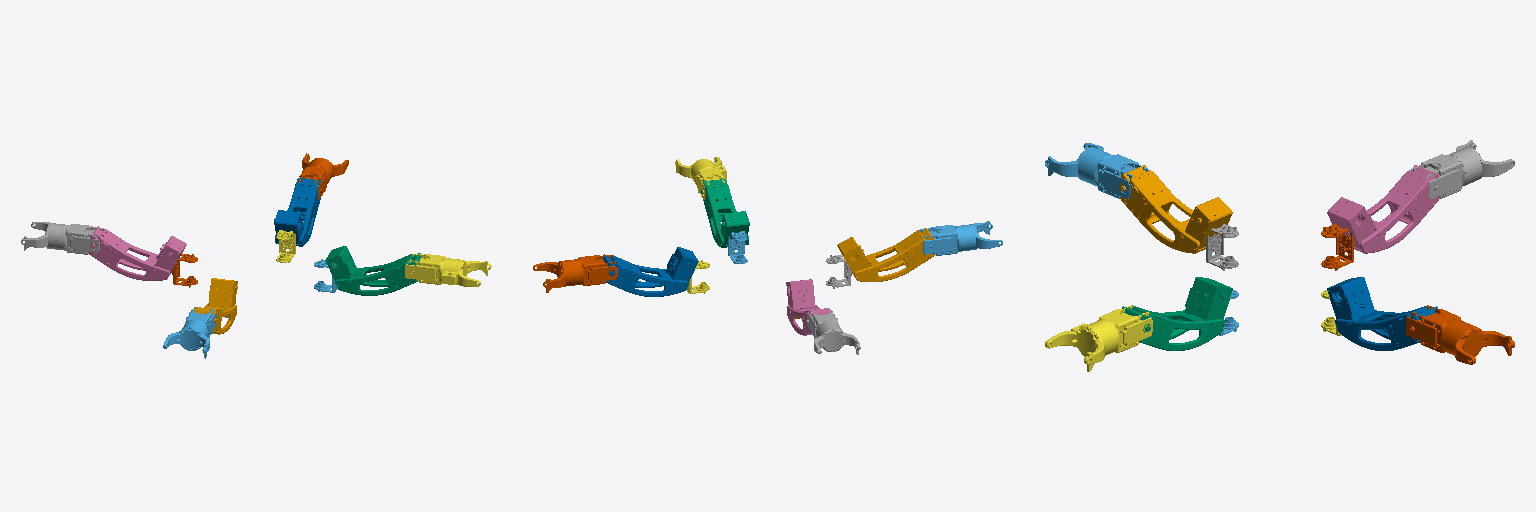
--- What the picture shows (computed from the rendered views, not written in the file) ---
3 views of the same robot in one strip: view 1: azimuth 30°, elevation 25°; view 2: azimuth 150°, elevation 25°; view 3: azimuth 270°, elevation 25° (orthographic).
Model magneto with 25 links and 24 joints (24 revolute), rooted at base_link, posed every joint at zero.
Visible links, largest first — view 1: BL_femur_link, AR_femur_link, AR_tibia_link, AL_femur_link, BL_tibia_link, BR_tibia_link, BR_femur_link, AL_tibia_link; view 2: AL_femur_link, BR_femur_link, AR_femur_link, AL_tibia_link, BR_tibia_link, BL_tibia_link, BL_femur_link, AR_tibia_link; view 3: BR_femur_link, BL_femur_link, AR_femur_link, AL_femur_link, AL_tibia_link, AR_tibia_link, BL_tibia_link, BR_tibia_link, BL_coxa_link, BR_coxa_link.
Boxes of the visible links, <box> form: BL_femur_link: <box>89,226,186,280</box>; AR_femur_link: <box>325,246,420,295</box>; AR_tibia_link: <box>405,254,491,286</box>; AL_femur_link: <box>274,178,320,246</box>; BL_tibia_link: <box>21,222,103,254</box>; BR_tibia_link: <box>163,307,216,358</box>; BR_femur_link: <box>191,278,237,334</box>; AL_tibia_link: <box>296,153,348,199</box>; AL_femur_link: <box>603,247,698,296</box>; BR_femur_link: <box>837,228,934,281</box>; AR_femur_link: <box>701,179,749,247</box>; AL_tibia_link: <box>533,255,617,292</box>; BR_tibia_link: <box>919,221,1002,255</box>; BL_tibia_link: <box>806,308,860,354</box>; BL_femur_link: <box>786,279,832,335</box>; AR_tibia_link: <box>675,157,728,199</box>; BR_femur_link: <box>1120,165,1232,253</box>; BL_femur_link: <box>1327,165,1439,253</box>; AR_femur_link: <box>1122,277,1232,350</box>; AL_femur_link: <box>1327,277,1437,350</box>; AL_tibia_link: <box>1406,305,1514,364</box>; AR_tibia_link: <box>1045,305,1152,371</box>; BL_tibia_link: <box>1410,140,1514,199</box>; BR_tibia_link: <box>1045,143,1148,199</box>; BL_coxa_link: <box>1321,224,1354,270</box>; BR_coxa_link: <box>1205,224,1238,270</box>.
Bounding box of the posed robot: 0.7142 × 0.6554 × 0.0927 m (x, y, z).
12 mesh visuals loaded from 5 distinct referenced files (4 binary STL); not drawn: 1 (reference not matched to a file when rendering).

The robot description file, URDF, robot "magneto":
<?xml version="1.0" encoding="utf-8"?>
<!-- =================================================================================== -->
<!-- |    This document was autogenerated by xacro from magneto_2_bones.xacro          | -->
<!-- |    EDITING THIS FILE BY HAND IS NOT RECOMMENDED                                 | -->
<!-- =================================================================================== -->
<robot name="magneto">
  <link name="base_link">
    <inertial>
      <origin rpy="0 0 0" xyz="-0.2696E-03 0 33.3181E-03"/>
      <mass value="1.44521"/>
      <inertia ixx="0.0083421056972" ixy="-4.932e-08" ixz="-2.47500871e-05" iyy="0.0136724752281" iyz="2.37e-11" izz="0.0180888568473"/>
    </inertial>
    <visual>
      <geometry>
        <mesh filename="package://magneto_2_description/meshes/base_link.STL"/>
      </geometry>
      <origin rpy="0 0 0" xyz="0 0 0"/>
      <material name="black"/>
    </visual>
    <collision>
      <geometry>
        <mesh filename="package://magneto_2_description/meshes/base_link_collision.STL"/>
      </geometry>
      <origin rpy="0 0 0" xyz="0 0 0"/>
    </collision>
  </link>
  <link name="AR_coxa_link">
    <inertial>
      <origin rpy="0.0            0.0            0.0" xyz="0.0            0.0            0.0"/>
      <mass value="0.05629"/>
      <inertia ixx="6.383417e-05" ixy="0.0" ixz="0.0" iyy="2.843519e-05" iyz="0.0" izz="4.305331e-05"/>
    </inertial>
    <visual>
      <geometry>
        <mesh filename="package://magneto_2_description/meshes/coxa_link.STL"/>
      </geometry>
      <origin rpy="-1.5708          1.5708          0.0" xyz="0.0          0.0          0.0"/>
      <material name="black"/>
    </visual>
    <collision>
      <geometry>
        <mesh filename="package://magneto_2_description/meshes/coxa_link_collision.STL"/>
      </geometry>
      <origin rpy="-1.5708            1.5708            0.0" xyz="0.0            0.0            0.0"/>
    </collision>
  </link>
  <joint name="AR_coxa_joint" type="revolute">
    <limit effort="100.0" lower="-2.355" upper="2.355" velocity="5"/>
    <child link="AR_coxa_link"/>
    <parent link="base_link"/>
    <axis xyz="0 1 0"/>
    <origin rpy="1.5708 0 -0.785" xyz="0.124985156372 -0.0950142657006 0.0527"/>
  </joint>
  <link name="AR_femur_link">
    <inertial>
      <origin rpy="0.0            0.0            0.0" xyz="0.0331            0.0            0.00057"/>
      <mass value="0.25695"/>
      <inertia ixx="0.00023448195" ixy="8.961282e-05" ixz="2.299328e-05" iyy="0.00105768013" iyz="-8.2212e-07" izz="0.00113717868"/>
    </inertial>
    <visual>
      <geometry>
        <mesh filename="package://magneto_2_description/meshes/femur_link.STL"/>
      </geometry>
      <origin rpy="3.14159          0.0          0.0" xyz="0.0          0.0          0.0"/>
      <material name="black"/>
    </visual>
    <collision>
      <geometry>
        <mesh filename="package://magneto_2_description/meshes/femur_link_collision.STL"/>
      </geometry>
      <origin rpy="-1.5708            0.0            0.0" xyz="0.0            0.0            0.0"/>
    </collision>
  </link>
  <joint name="AR_femur_joint" type="revolute">
    <limit effort="100.0" lower="-1.571" upper="2.355" velocity="5"/>
    <child link="AR_femur_link"/>
    <parent link="AR_coxa_link"/>
    <axis xyz="0 0 1"/>
    <origin rpy="0 0 0" xyz="0 0.0393 0"/>
  </joint>
  <link name="AR_tibia_link">
    <inertial>
      <origin rpy="0.0            0.0            0.0" xyz="0.04813            0.0            0.00063"/>
      <mass value="0.57311"/>
      <inertia ixx="0.00012691396" ixy="-2.13598e-06" ixz="1.580716e-05" iyy="0.00135132424" iyz="4.859e-08" izz="0.00131598196"/>
    </inertial>
    <visual>
      <geometry>
        <mesh filename="package://magneto_2_description/meshes/tibia_link_ft.STL"/>
      </geometry>
      <origin rpy="0.0          0.0          0.0" xyz="0.0          0.0          0.0"/>
      <material name="black"/>
    </visual>
    <collision>
      <geometry>
        <mesh filename="package://magneto_2_description/meshes/tibia_link_ft.STL"/>
      </geometry>
      <origin rpy="0.0            0.0            0.0" xyz="0.0            0.0            0.0"/>
    </collision>
  </link>
  <joint name="AR_tibia_joint" type="revolute">
    <limit effort="100.0" lower="-2.355" upper="0.001" velocity="5"/>
    <child link="AR_tibia_link"/>
    <parent link="AR_femur_link"/>
    <axis xyz="0 0 1"/>
    <origin rpy="0.0 0 0.0" xyz="0.15 0 0"/>
  </joint>
  <link name="AR_foot_link_1">
    <inertial>
      <origin rpy="0 0 0" xyz="0.02E-03 2.88E-03 -4.39E-03"/>
      <mass value="0.03591"/>
      <inertia ixx="60131.00E-09" ixy="610.47E-09" ixz="387.97E-09" iyy="31108.13E-09" iyz="346.50E-09" izz="31112.38E-09"/>
    </inertial>
  </link>
  <joint name="AR_foot_joint_1" type="revolute">
    <parent link="AR_tibia_link"/>
    <axis xyz="0 0 1"/>
    <origin rpy="0 0 0" xyz="0.132 0 0"/>
    <limit effort="100.0" lower="-0.523599" upper="0.523599" velocity="5"/>
    <child link="AR_foot_link_1"/>
    <dynamics damping="0.2" friction="0.0"/>
  </joint>
  <link name="AR_foot_link_2">
    <inertial>
      <origin rpy="0 0 0" xyz="0.02E-03 2.88E-03 -4.39E-03"/>
      <mass value="0.02961"/>
      <inertia ixx="8786.61E-09" ixy="34.74E-09" ixz="7.47E-09" iyy="10893.41E-09" iyz="-95.83E-09" izz="17608.23E-09"/>
    </inertial>
  </link>
  <joint name="AR_foot_joint_2" type="revolute">
    <axis xyz="0 1 0"/>
    <limit effort="100.0" lower="-0.418879" upper="0.418879" velocity="5"/>
    <parent link="AR_foot_link_1"/>
    <child link="AR_foot_link_2"/>
    <origin rpy="0 0 0" xyz="0 0 0"/>
    <dynamics damping="0.2" friction="0.0"/>
  </joint>
  <link name="AR_foot_link_3">
    <inertial>
      <origin rpy="0 0 0" xyz="0.02E-03 2.88E-03 -4.39E-03"/>
      <mass value="0.32158"/>
      <inertia ixx="49836.99E-09" ixy="144.66E-09" ixz="-4031.72E-09" iyy="81967.91E-09" iyz="-678.12E-09" izz="69129.32E-09"/>
    </inertial>
  </link>
  <joint name="AR_foot_joint_3" type="revolute">
    <axis xyz="1 0 0"/>
    <limit effort="100.0" lower="-2.07694" upper="2.07694" velocity="5"/>
    <parent link="AR_foot_link_2"/>
    <child link="AR_foot_link_3"/>
    <origin rpy="0 0 0" xyz="0 0 0"/>
    <dynamics damping="0.2" friction="0.0"/>
  </joint>
  <!-- 
  <link name="${prefix}_foot_link">
      <geometry>
        <mesh filename="package://magneto_2_description/meshes/foot_link.STL"/>
      </geometry>
      <origin rpy="0 0 0" xyz="0 0 0"/>
      <material name="black"/>
    </visual>
  </link>
  <gazebo reference="${prefix}_foot_link">
    <selfCollide>false</selfCollide>
    <visual>
      <transparency>1</transparency>
    </visual>  
  </gazebo>
  <joint name="${prefix}_foot_joint" type="fixed">
    <child link="${prefix}_foot_link"/>
    <xacro:calc_joint prefix="${prefix}" child="foot" parent="tibia" />
  </joint> -->
  <link name="BR_coxa_link">
    <inertial>
      <origin rpy="0.0            0.0            0.0" xyz="0.0            0.0            0.0"/>
      <mass value="0.05629"/>
      <inertia ixx="6.383417e-05" ixy="0.0" ixz="0.0" iyy="2.843519e-05" iyz="0.0" izz="4.305331e-05"/>
    </inertial>
    <visual>
      <geometry>
        <mesh filename="package://magneto_2_description/meshes/coxa_link.STL"/>
      </geometry>
      <origin rpy="-1.5708          1.5708          0.0" xyz="0.0          0.0          0.0"/>
      <material name="black"/>
    </visual>
    <collision>
      <geometry>
        <mesh filename="package://magneto_2_description/meshes/coxa_link_collision.STL"/>
      </geometry>
      <origin rpy="-1.5708            1.5708            0.0" xyz="0.0            0.0            0.0"/>
    </collision>
  </link>
  <joint name="BR_coxa_joint" type="revolute">
    <limit effort="100.0" lower="-2.355" upper="2.355" velocity="5"/>
    <child link="BR_coxa_link"/>
    <parent link="base_link"/>
    <axis xyz="0 1 0"/>
    <origin rpy="1.5708 0 -2.355" xyz="-0.12483367311 -0.0952132031704 0.0527"/>
  </joint>
  <link name="BR_femur_link">
    <inertial>
      <origin rpy="0.0            0.0            0.0" xyz="0.0331            0.0            0.00057"/>
      <mass value="0.25695"/>
      <inertia ixx="0.00023448195" ixy="8.961282e-05" ixz="2.299328e-05" iyy="0.00105768013" iyz="-8.2212e-07" izz="0.00113717868"/>
    </inertial>
    <visual>
      <geometry>
        <mesh filename="package://magneto_2_description/meshes/femur_link.STL"/>
      </geometry>
      <origin rpy="3.14159          0.0          0.0" xyz="0.0          0.0          0.0"/>
      <material name="black"/>
    </visual>
    <collision>
      <geometry>
        <mesh filename="package://magneto_2_description/meshes/femur_link_collision.STL"/>
      </geometry>
      <origin rpy="-1.5708            0.0            0.0" xyz="0.0            0.0            0.0"/>
    </collision>
  </link>
  <joint name="BR_femur_joint" type="revolute">
    <limit effort="100.0" lower="-1.571" upper="2.355" velocity="5"/>
    <child link="BR_femur_link"/>
    <parent link="BR_coxa_link"/>
    <axis xyz="0 0 1"/>
    <origin rpy="0 0 0" xyz="0 0.0393 0"/>
  </joint>
  <link name="BR_tibia_link">
    <inertial>
      <origin rpy="0.0            0.0            0.0" xyz="0.0363            0.0            -0.00011"/>
      <mass value="0.45311"/>
      <inertia ixx="8.692014e-05" ixy="-1.44653e-06" ixz="-3.73592e-06" iyy="0.00067791971" iyz="1.1736e-07" izz="0.00064913972"/>
    </inertial>
    <visual>
      <geometry>
        <mesh filename="package://magneto_2_description/meshes/tibia_link_no_ft.STL"/>
      </geometry>
      <origin rpy="0.0          0.0          0.0" xyz="0.0          0.0          0.0"/>
      <material name="black"/>
    </visual>
    <collision>
      <geometry>
        <mesh filename="package://magneto_2_description/meshes/tibia_link_no_ft.STL"/>
      </geometry>
      <origin rpy="0.0            0.0            0.0" xyz="0.0            0.0            0.0"/>
    </collision>
  </link>
  <joint name="BR_tibia_joint" type="revolute">
    <limit effort="100.0" lower="-2.355" upper="0.001" velocity="5"/>
    <child link="BR_tibia_link"/>
    <parent link="BR_femur_link"/>
    <axis xyz="0 0 1"/>
    <origin rpy="0.0 0 0.0" xyz="0.15 0 0"/>
  </joint>
  <link name="BR_foot_link_1">
    <inertial>
      <origin rpy="0 0 0" xyz="0.02E-03 2.88E-03 -4.39E-03"/>
      <mass value="0.03591"/>
      <inertia ixx="60131.00E-09" ixy="610.47E-09" ixz="387.97E-09" iyy="31108.13E-09" iyz="346.50E-09" izz="31112.38E-09"/>
    </inertial>
  </link>
  <joint name="BR_foot_joint_1" type="revolute">
    <parent link="BR_tibia_link"/>
    <axis xyz="0 0 1"/>
    <origin rpy="0 0 0" xyz="0.132 0 0"/>
    <limit effort="100.0" lower="-0.523599" upper="0.523599" velocity="5"/>
    <child link="BR_foot_link_1"/>
    <dynamics damping="0.2" friction="0.0"/>
  </joint>
  <link name="BR_foot_link_2">
    <inertial>
      <origin rpy="0 0 0" xyz="0.02E-03 2.88E-03 -4.39E-03"/>
      <mass value="0.02961"/>
      <inertia ixx="8786.61E-09" ixy="34.74E-09" ixz="7.47E-09" iyy="10893.41E-09" iyz="-95.83E-09" izz="17608.23E-09"/>
    </inertial>
  </link>
  <joint name="BR_foot_joint_2" type="revolute">
    <axis xyz="0 1 0"/>
    <limit effort="100.0" lower="-0.418879" upper="0.418879" velocity="5"/>
    <parent link="BR_foot_link_1"/>
    <child link="BR_foot_link_2"/>
    <origin rpy="0 0 0" xyz="0 0 0"/>
    <dynamics damping="0.2" friction="0.0"/>
  </joint>
  <link name="BR_foot_link_3">
    <inertial>
      <origin rpy="0 0 0" xyz="0.02E-03 2.88E-03 -4.39E-03"/>
      <mass value="0.32158"/>
      <inertia ixx="49836.99E-09" ixy="144.66E-09" ixz="-4031.72E-09" iyy="81967.91E-09" iyz="-678.12E-09" izz="69129.32E-09"/>
    </inertial>
  </link>
  <joint name="BR_foot_joint_3" type="revolute">
    <axis xyz="1 0 0"/>
    <limit effort="100.0" lower="-2.07694" upper="2.07694" velocity="5"/>
    <parent link="BR_foot_link_2"/>
    <child link="BR_foot_link_3"/>
    <origin rpy="0 0 0" xyz="0 0 0"/>
    <dynamics damping="0.2" friction="0.0"/>
  </joint>
  <!-- 
  <link name="${prefix}_foot_link">
      <geometry>
        <mesh filename="package://magneto_2_description/meshes/foot_link.STL"/>
      </geometry>
      <origin rpy="0 0 0" xyz="0 0 0"/>
      <material name="black"/>
    </visual>
  </link>
  <gazebo reference="${prefix}_foot_link">
    <selfCollide>false</selfCollide>
    <visual>
      <transparency>1</transparency>
    </visual>  
  </gazebo>
  <joint name="${prefix}_foot_joint" type="fixed">
    <child link="${prefix}_foot_link"/>
    <xacro:calc_joint prefix="${prefix}" child="foot" parent="tibia" />
  </joint> -->
  <link name="BL_coxa_link">
    <inertial>
      <origin rpy="0.0            0.0            0.0" xyz="0.0            0.0            0.0"/>
      <mass value="0.05629"/>
      <inertia ixx="6.383417e-05" ixy="0.0" ixz="0.0" iyy="2.843519e-05" iyz="0.0" izz="4.305331e-05"/>
    </inertial>
    <visual>
      <geometry>
        <mesh filename="package://magneto_2_description/meshes/coxa_link.STL"/>
      </geometry>
      <origin rpy="-1.5708          1.5708          0.0" xyz="0.0          0.0          0.0"/>
      <material name="black"/>
    </visual>
    <collision>
      <geometry>
        <mesh filename="package://magneto_2_description/meshes/coxa_link_collision.STL"/>
      </geometry>
      <origin rpy="-1.5708            1.5708            0.0" xyz="0.0            0.0            0.0"/>
    </collision>
  </link>
  <joint name="BL_coxa_joint" type="revolute">
    <limit effort="100.0" lower="-2.355" upper="2.355" velocity="5"/>
    <child link="BL_coxa_link"/>
    <parent link="base_link"/>
    <axis xyz="0 1 0"/>
    <origin rpy="1.5708 0 2.355" xyz="-0.12483367311 0.0952132031704 0.0527"/>
  </joint>
  <link name="BL_femur_link">
    <inertial>
      <origin rpy="0.0            0.0            0.0" xyz="0.0331            0.0            0.00057"/>
      <mass value="0.25695"/>
      <inertia ixx="0.00023448195" ixy="8.961282e-05" ixz="2.299328e-05" iyy="0.00105768013" iyz="-8.2212e-07" izz="0.00113717868"/>
    </inertial>
    <visual>
      <geometry>
        <mesh filename="package://magneto_2_description/meshes/femur_link.STL"/>
      </geometry>
      <origin rpy="3.14159          0.0          0.0" xyz="0.0          0.0          0.0"/>
      <material name="black"/>
    </visual>
    <collision>
      <geometry>
        <mesh filename="package://magneto_2_description/meshes/femur_link_collision.STL"/>
      </geometry>
      <origin rpy="-1.5708            0.0            0.0" xyz="0.0            0.0            0.0"/>
    </collision>
  </link>
  <joint name="BL_femur_joint" type="revolute">
    <limit effort="100.0" lower="-1.571" upper="2.355" velocity="5"/>
    <child link="BL_femur_link"/>
    <parent link="BL_coxa_link"/>
    <axis xyz="0 0 1"/>
    <origin rpy="0 0 0" xyz="0 0.0393 0"/>
  </joint>
  <link name="BL_tibia_link">
    <inertial>
      <origin rpy="0.0            0.0            0.0" xyz="0.0363            0.0            -0.00011"/>
      <mass value="0.45311"/>
      <inertia ixx="8.692014e-05" ixy="-1.44653e-06" ixz="-3.73592e-06" iyy="0.00067791971" iyz="1.1736e-07" izz="0.00064913972"/>
    </inertial>
    <visual>
      <geometry>
        <mesh filename="package://magneto_2_description/meshes/tibia_link_no_ft.STL"/>
      </geometry>
      <origin rpy="0.0          0.0          0.0" xyz="0.0          0.0          0.0"/>
      <material name="black"/>
    </visual>
    <collision>
      <geometry>
        <mesh filename="package://magneto_2_description/meshes/tibia_link_no_ft.STL"/>
      </geometry>
      <origin rpy="0.0            0.0            0.0" xyz="0.0            0.0            0.0"/>
    </collision>
  </link>
  <joint name="BL_tibia_joint" type="revolute">
    <limit effort="100.0" lower="-2.355" upper="0.001" velocity="5"/>
    <child link="BL_tibia_link"/>
    <parent link="BL_femur_link"/>
    <axis xyz="0 0 1"/>
    <origin rpy="0.0 0 0.0" xyz="0.15 0 0"/>
  </joint>
  <link name="BL_foot_link_1">
    <inertial>
      <origin rpy="0 0 0" xyz="0.02E-03 2.88E-03 -4.39E-03"/>
      <mass value="0.03591"/>
      <inertia ixx="60131.00E-09" ixy="610.47E-09" ixz="387.97E-09" iyy="31108.13E-09" iyz="346.50E-09" izz="31112.38E-09"/>
    </inertial>
  </link>
  <joint name="BL_foot_joint_1" type="revolute">
    <parent link="BL_tibia_link"/>
    <axis xyz="0 0 1"/>
    <origin rpy="0 0 0" xyz="0.132 0 0"/>
    <limit effort="100.0" lower="-0.523599" upper="0.523599" velocity="5"/>
    <child link="BL_foot_link_1"/>
    <dynamics damping="0.2" friction="0.0"/>
  </joint>
  <link name="BL_foot_link_2">
    <inertial>
      <origin rpy="0 0 0" xyz="0.02E-03 2.88E-03 -4.39E-03"/>
      <mass value="0.02961"/>
      <inertia ixx="8786.61E-09" ixy="34.74E-09" ixz="7.47E-09" iyy="10893.41E-09" iyz="-95.83E-09" izz="17608.23E-09"/>
    </inertial>
  </link>
  <joint name="BL_foot_joint_2" type="revolute">
    <axis xyz="0 1 0"/>
    <limit effort="100.0" lower="-0.418879" upper="0.418879" velocity="5"/>
    <parent link="BL_foot_link_1"/>
    <child link="BL_foot_link_2"/>
    <origin rpy="0 0 0" xyz="0 0 0"/>
    <dynamics damping="0.2" friction="0.0"/>
  </joint>
  <link name="BL_foot_link_3">
    <inertial>
      <origin rpy="0 0 0" xyz="0.02E-03 2.88E-03 -4.39E-03"/>
      <mass value="0.32158"/>
      <inertia ixx="49836.99E-09" ixy="144.66E-09" ixz="-4031.72E-09" iyy="81967.91E-09" iyz="-678.12E-09" izz="69129.32E-09"/>
    </inertial>
  </link>
  <joint name="BL_foot_joint_3" type="revolute">
    <axis xyz="1 0 0"/>
    <limit effort="100.0" lower="-2.07694" upper="2.07694" velocity="5"/>
    <parent link="BL_foot_link_2"/>
    <child link="BL_foot_link_3"/>
    <origin rpy="0 0 0" xyz="0 0 0"/>
    <dynamics damping="0.2" friction="0.0"/>
  </joint>
  <!-- 
  <link name="${prefix}_foot_link">
      <geometry>
        <mesh filename="package://magneto_2_description/meshes/foot_link.STL"/>
      </geometry>
      <origin rpy="0 0 0" xyz="0 0 0"/>
      <material name="black"/>
    </visual>
  </link>
  <gazebo reference="${prefix}_foot_link">
    <selfCollide>false</selfCollide>
    <visual>
      <transparency>1</transparency>
    </visual>  
  </gazebo>
  <joint name="${prefix}_foot_joint" type="fixed">
    <child link="${prefix}_foot_link"/>
    <xacro:calc_joint prefix="${prefix}" child="foot" parent="tibia" />
  </joint> -->
  <link name="AL_coxa_link">
    <inertial>
      <origin rpy="0.0            0.0            0.0" xyz="0.0            0.0            0.0"/>
      <mass value="0.05629"/>
      <inertia ixx="6.383417e-05" ixy="0.0" ixz="0.0" iyy="2.843519e-05" iyz="0.0" izz="4.305331e-05"/>
    </inertial>
    <visual>
      <geometry>
        <mesh filename="package://magneto_2_description/meshes/coxa_link.STL"/>
      </geometry>
      <origin rpy="-1.5708          1.5708          0.0" xyz="0.0          0.0          0.0"/>
      <material name="black"/>
    </visual>
    <collision>
      <geometry>
        <mesh filename="package://magneto_2_description/meshes/coxa_link_collision.STL"/>
      </geometry>
      <origin rpy="-1.5708            1.5708            0.0" xyz="0.0            0.0            0.0"/>
    </collision>
  </link>
  <joint name="AL_coxa_joint" type="revolute">
    <limit effort="100.0" lower="-2.355" upper="2.355" velocity="5"/>
    <child link="AL_coxa_link"/>
    <parent link="base_link"/>
    <axis xyz="0 1 0"/>
    <origin rpy="1.5708 0 0.785" xyz="0.124985156372 0.0950142657006 0.0527"/>
  </joint>
  <link name="AL_femur_link">
    <inertial>
      <origin rpy="0.0            0.0            0.0" xyz="0.0331            0.0            0.00057"/>
      <mass value="0.25695"/>
      <inertia ixx="0.00023448195" ixy="8.961282e-05" ixz="2.299328e-05" iyy="0.00105768013" iyz="-8.2212e-07" izz="0.00113717868"/>
    </inertial>
    <visual>
      <geometry>
        <mesh filename="package://magneto_2_description/meshes/femur_link.STL"/>
      </geometry>
      <origin rpy="3.14159          0.0          0.0" xyz="0.0          0.0          0.0"/>
      <material name="black"/>
    </visual>
    <collision>
      <geometry>
        <mesh filename="package://magneto_2_description/meshes/femur_link_collision.STL"/>
      </geometry>
      <origin rpy="-1.5708            0.0            0.0" xyz="0.0            0.0            0.0"/>
    </collision>
  </link>
  <joint name="AL_femur_joint" type="revolute">
    <limit effort="100.0" lower="-1.571" upper="2.355" velocity="5"/>
    <child link="AL_femur_link"/>
    <parent link="AL_coxa_link"/>
    <axis xyz="0 0 1"/>
    <origin rpy="0 0 0" xyz="0 0.0393 0"/>
  </joint>
  <link name="AL_tibia_link">
    <inertial>
      <origin rpy="0.0            0.0            0.0" xyz="0.0363            0.0            -0.00011"/>
      <mass value="0.45311"/>
      <inertia ixx="8.692014e-05" ixy="-1.44653e-06" ixz="-3.73592e-06" iyy="0.00067791971" iyz="1.1736e-07" izz="0.00064913972"/>
    </inertial>
    <visual>
      <geometry>
        <mesh filename="package://magneto_2_description/meshes/tibia_link_no_ft.STL"/>
      </geometry>
      <origin rpy="0.0          0.0          0.0" xyz="0.0          0.0          0.0"/>
      <material name="black"/>
    </visual>
    <collision>
      <geometry>
        <mesh filename="package://magneto_2_description/meshes/tibia_link_no_ft.STL"/>
      </geometry>
      <origin rpy="0.0            0.0            0.0" xyz="0.0            0.0            0.0"/>
    </collision>
  </link>
  <joint name="AL_tibia_joint" type="revolute">
    <limit effort="100.0" lower="-2.355" upper="0.001" velocity="5"/>
    <child link="AL_tibia_link"/>
    <parent link="AL_femur_link"/>
    <axis xyz="0 0 1"/>
    <origin rpy="0.0 0 0.0" xyz="0.15 0 0"/>
  </joint>
  <link name="AL_foot_link_1">
    <inertial>
      <origin rpy="0 0 0" xyz="0.02E-03 2.88E-03 -4.39E-03"/>
      <mass value="0.03591"/>
      <inertia ixx="60131.00E-09" ixy="610.47E-09" ixz="387.97E-09" iyy="31108.13E-09" iyz="346.50E-09" izz="31112.38E-09"/>
    </inertial>
  </link>
  <joint name="AL_foot_joint_1" type="revolute">
    <parent link="AL_tibia_link"/>
    <axis xyz="0 0 1"/>
    <origin rpy="0 0 0" xyz="0.132 0 0"/>
    <limit effort="100.0" lower="-0.523599" upper="0.523599" velocity="5"/>
    <child link="AL_foot_link_1"/>
    <dynamics damping="0.2" friction="0.0"/>
  </joint>
  <link name="AL_foot_link_2">
    <inertial>
      <origin rpy="0 0 0" xyz="0.02E-03 2.88E-03 -4.39E-03"/>
      <mass value="0.02961"/>
      <inertia ixx="8786.61E-09" ixy="34.74E-09" ixz="7.47E-09" iyy="10893.41E-09" iyz="-95.83E-09" izz="17608.23E-09"/>
    </inertial>
  </link>
  <joint name="AL_foot_joint_2" type="revolute">
    <axis xyz="0 1 0"/>
    <limit effort="100.0" lower="-0.418879" upper="0.418879" velocity="5"/>
    <parent link="AL_foot_link_1"/>
    <child link="AL_foot_link_2"/>
    <origin rpy="0 0 0" xyz="0 0 0"/>
    <dynamics damping="0.2" friction="0.0"/>
  </joint>
  <link name="AL_foot_link_3">
    <inertial>
      <origin rpy="0 0 0" xyz="0.02E-03 2.88E-03 -4.39E-03"/>
      <mass value="0.32158"/>
      <inertia ixx="49836.99E-09" ixy="144.66E-09" ixz="-4031.72E-09" iyy="81967.91E-09" iyz="-678.12E-09" izz="69129.32E-09"/>
    </inertial>
  </link>
  <joint name="AL_foot_joint_3" type="revolute">
    <axis xyz="1 0 0"/>
    <limit effort="100.0" lower="-2.07694" upper="2.07694" velocity="5"/>
    <parent link="AL_foot_link_2"/>
    <child link="AL_foot_link_3"/>
    <origin rpy="0 0 0" xyz="0 0 0"/>
    <dynamics damping="0.2" friction="0.0"/>
  </joint>
  <!-- 
  <link name="${prefix}_foot_link">
      <geometry>
        <mesh filename="package://magneto_2_description/meshes/foot_link.STL"/>
      </geometry>
      <origin rpy="0 0 0" xyz="0 0 0"/>
      <material name="black"/>
    </visual>
  </link>
  <gazebo reference="${prefix}_foot_link">
    <selfCollide>false</selfCollide>
    <visual>
      <transparency>1</transparency>
    </visual>  
  </gazebo>
  <joint name="${prefix}_foot_joint" type="fixed">
    <child link="${prefix}_foot_link"/>
    <xacro:calc_joint prefix="${prefix}" child="foot" parent="tibia" />
  </joint> -->
</robot>
